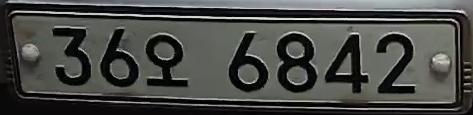2: (372, 27, 421, 99)
3: (47, 22, 95, 87)
4: (322, 30, 373, 97)
6: (223, 29, 273, 93), (96, 24, 143, 90)
8: (272, 28, 321, 95)
오: (142, 30, 192, 92)
